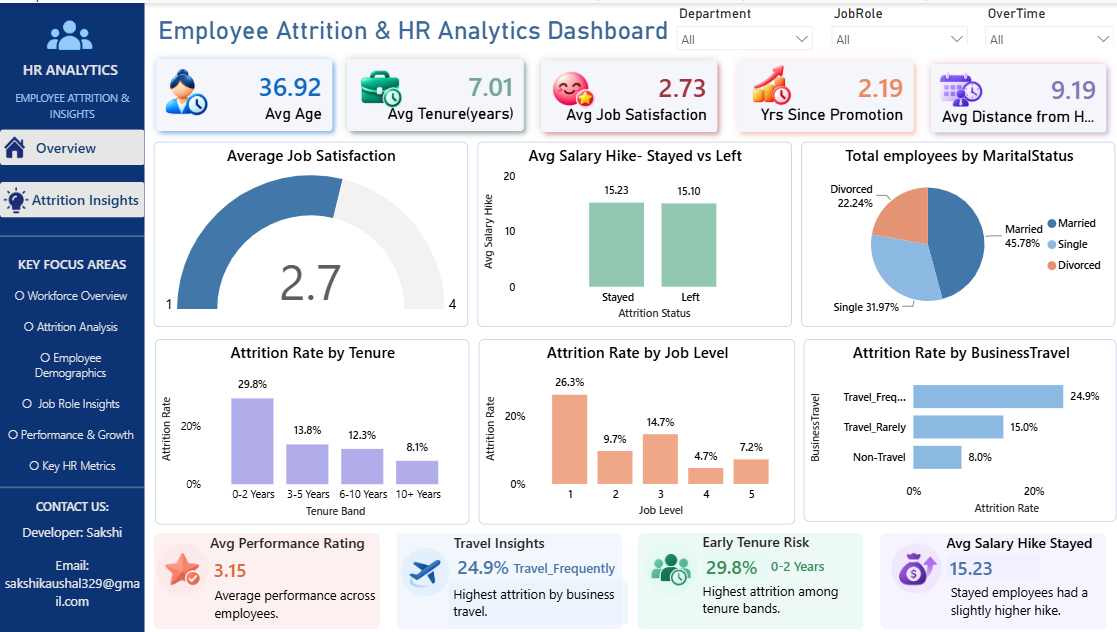

This screenshot's page, from the dashboard's own definition file:
{"tool":"powerbi","page":{"name":"Attrition Insight","canvas":[1280,720],"ordinal":1},"visuals":[{"type":"shape","box":[0,0,165,720.4],"z":0},{"type":"shape","box":[0,144.1,164.7,41.2],"z":1000},{"type":"shape","box":[0,204.5,164.7,41],"z":2000},{"type":"cardVisual","fields":{"Data":["Avg(hr hr_analytics.YearsAtCompany)"]},"box":[379.6,46.7,235,116],"z":3000},{"type":"cardVisual","fields":{"Data":["Avg(hr hr_analytics.JobSatisfaction)"]},"box":[600.5,48,235,116],"z":4000},{"type":"cardVisual","fields":{"Data":["Avg(hr hr_analytics.YearsSinceLastPromotion)"]},"box":[824.2,48,235,116],"z":5000},{"type":"cardVisual","fields":{"Data":["Avg(hr hr_analytics.DistanceFromHome)"]},"box":[1044.3,52.1,234.6,112.5],"z":6000},{"type":"cardVisual","fields":{"Data":["Avg(hr hr_analytics.Age)"]},"box":[160.5,46.7,235,116],"z":7000},{"type":"lineStackedColumnComboChart","title":"Attrition Rate by Tenure","fields":{"Category":["hr hr_analytics.Tenure Band Fixed"],"Y":["hr hr_analytics.Attrition Rate"]},"box":[177,382.8,358.1,211.3],"z":8000},{"type":"slicer","fields":{"Values":["hr hr_analytics.OverTime"]},"box":[1112.6,0,167.4,49.4],"z":9000},{"type":"slicer","fields":{"Values":["hr hr_analytics.JobRole"]},"box":[937.2,0,175.6,48],"z":10000},{"type":"slicer","fields":{"Values":["hr hr_analytics.Department"]},"box":[761.6,0,175.6,53.5],"z":11000},{"type":"gauge","title":"Average Job Satisfaction","fields":{"MaxValue":["hr hr_analytics.Maximum Value"],"MinValue":["hr hr_analytics.Minimum Value"],"Y":["Avg(hr hr_analytics.JobSatisfaction)"]},"box":[175.6,157.8,358.1,211.3],"z":12000},{"type":"lineStackedColumnComboChart","title":"Avg Salary Hike- Stayed vs Left","fields":{"Category":["hr hr_analytics.Attrition Status"],"Y":["Avg(hr hr_analytics.PercentSalaryHike)"]},"box":[544.8,157.8,358.1,211.3],"z":13000},{"type":"clusteredBarChart","fields":{"Category":["hr hr_analytics.BusinessTravel"],"Y":["hr hr_analytics.Attrition Rate"]},"box":[916.5,383.4,357.8,208.1],"z":14000},{"type":"pieChart","fields":{"Category":["hr hr_analytics.MaritalStatus"],"Y":["hr hr_analytics.Total employess"]},"box":[913.9,157.8,359.5,211.3],"z":15000},{"type":"columnChart","title":"Attrition Rate by Job Level","fields":{"Category":["hr hr_analytics.JobLevel"],"Y":["hr hr_analytics.Attrition Rate"]},"box":[545.9,383.4,360.6,211],"z":16000},{"type":"shape","box":[175.6,603.8,258,109.8],"z":17000},{"type":"shape","box":[451.5,603.8,258,109.8],"z":18000},{"type":"shape","box":[727.3,603.8,258,109.8],"z":19000},{"type":"shape","box":[1003.1,603.8,258,109.8],"z":20000},{"type":"textbox","box":[175.6,8.2,595.5,43.9],"z":21000},{"type":"cardVisual","fields":{"Data":["hr hr_analytics.Travel attrition"]},"box":[517.3,631.2,74.1,20.6],"z":22000},{"type":"textbox","box":[517.3,603.8,118,30.2],"z":23000},{"type":"cardVisual","fields":{"Data":["hr hr_analytics.Highest Travel Category"]},"box":[581.8,627.1,142.7,30.2],"z":24000},{"type":"textbox","box":[511.8,658.7,204.5,50.8],"z":25000},{"type":"cardVisual","fields":{"Data":["hr hr_analytics.Highest Tenure Attrition"]},"box":[801.4,625.7,75.5,32.9],"z":26000},{"type":"cardVisual","fields":{"Data":["hr hr_analytics.Highest Tenure Band"]},"box":[875.2,625.7,124.9,30.2],"z":27000},{"type":"textbox","box":[801.4,602.4,150.9,26.1],"z":28000},{"type":"textbox","box":[801.4,660,183.9,49.4],"z":29000},{"type":"textbox","box":[1078.6,603.8,182.5,28.8],"z":30000},{"type":"cardVisual","fields":{"Data":["hr hr_analytics.Avg Salary Hike Stayed"]},"box":[1078.6,628.5,107,28.8],"z":31000},{"type":"textbox","box":[1078.6,657.3,182.5,63.1],"z":32000},{"type":"cardVisual","fields":{"Data":["Avg(hr hr_analytics.PerformanceRating)"]},"box":[240.1,634,64.5,22],"z":33000},{"type":"textbox","box":[240.1,603.8,193.5,30.2],"z":34000},{"type":"textbox","box":[240.1,660,225,53.5],"z":35000},{"type":"image","box":[451.5,613.4,60.4,65.9],"z":36000},{"type":"image","box":[175.6,610.6,64.5,64.5],"z":37000},{"type":"image","box":[728.6,605.1,67.2,83.7],"z":38000},{"type":"image","box":[1011.3,606.5,64.5,79.6],"z":39000},{"type":"image","box":[408.9,72.7,50.8,50.8],"z":40000},{"type":"image","box":[181.1,70,60.4,63.1],"z":41000},{"type":"image","box":[628.5,67.2,50.8,61.7],"z":42000},{"type":"image","box":[852.1,67.2,50.8,53.5],"z":43000},{"type":"image","box":[46.7,4.1,64.5,64.5],"z":44000},{"type":"textbox","box":[0,60.4,160.5,38.4],"z":45000},{"type":"textbox","box":[0,94.7,164.7,49.4],"z":46000},{"type":"shape","box":[0,118,164.7,295],"z":47000},{"type":"textbox","box":[0,319.7,164.7,249.7],"z":48000},{"type":"textbox","box":[0,282.7,164.7,37],"z":49000},{"type":"actionButton","box":[28.8,149.6,93.3,28.8],"z":50000},{"type":"actionButton","box":[30.2,208.6,134.5,31.6],"z":51000},{"type":"image","box":[4.1,146.8,25,35],"z":52000},{"type":"image","box":[2.7,204.5,31,42],"z":53000},{"type":"textbox","box":[0,559.9,164.7,31.6],"z":54000},{"type":"textbox","box":[0,588.7,164.7,131.7],"z":55000},{"type":"shape","box":[0,404.8,164.7,295],"z":56000},{"type":"image","box":[1059.4,67.2,72.7,63.1],"z":57000}]}

Visuals, with their boxes in screenshot pixels (x1, y1, x2, y2), scaled from the page's 1280x720 canvas onto the 1117x632 screenshot:
shape: (0, 0, 144, 631)
shape: (0, 126, 144, 163)
shape: (0, 180, 144, 215)
cardVisual - Avg(hr hr_analytics.YearsAtCompany): (331, 41, 536, 143)
cardVisual - Avg(hr hr_analytics.JobSatisfaction): (524, 42, 729, 144)
cardVisual - Avg(hr hr_analytics.YearsSinceLastPromotion): (719, 42, 924, 144)
cardVisual - Avg(hr hr_analytics.DistanceFromHome): (911, 46, 1116, 144)
cardVisual - Avg(hr hr_analytics.Age): (140, 41, 345, 143)
"Attrition Rate by Tenure" lineStackedColumnComboChart: (154, 336, 467, 521)
slicer - hr hr_analytics.OverTime: (971, 0, 1116, 43)
slicer - hr hr_analytics.JobRole: (818, 0, 971, 42)
slicer - hr hr_analytics.Department: (665, 0, 818, 47)
"Average Job Satisfaction" gauge: (153, 139, 466, 324)
"Avg Salary Hike- Stayed vs Left" lineStackedColumnComboChart: (475, 139, 788, 324)
clusteredBarChart - hr hr_analytics.BusinessTravel x hr hr_analytics.Attrition Rate: (800, 337, 1112, 519)
pieChart - hr hr_analytics.MaritalStatus x hr hr_analytics.Total employess: (798, 139, 1111, 324)
"Attrition Rate by Job Level" columnChart: (476, 337, 791, 522)
shape: (153, 530, 378, 626)
shape: (394, 530, 619, 626)
shape: (635, 530, 860, 626)
shape: (875, 530, 1101, 626)
textbox: (153, 7, 673, 46)
cardVisual - hr hr_analytics.Travel attrition: (451, 554, 516, 572)
textbox: (451, 530, 554, 557)
cardVisual - hr hr_analytics.Highest Travel Category: (508, 550, 632, 577)
textbox: (447, 578, 625, 623)
cardVisual - hr hr_analytics.Highest Tenure Attrition: (699, 549, 765, 578)
cardVisual - hr hr_analytics.Highest Tenure Band: (764, 549, 873, 576)
textbox: (699, 529, 831, 552)
textbox: (699, 579, 860, 623)
textbox: (941, 530, 1101, 555)
cardVisual - hr hr_analytics.Avg Salary Hike Stayed: (941, 552, 1035, 577)
textbox: (941, 577, 1101, 631)
cardVisual - Avg(hr hr_analytics.PerformanceRating): (210, 557, 266, 576)
textbox: (210, 530, 378, 557)
textbox: (210, 579, 406, 626)
image: (394, 538, 447, 596)
image: (153, 536, 210, 593)
image: (636, 531, 694, 605)
image: (883, 532, 939, 602)
image: (357, 64, 401, 108)
image: (158, 61, 211, 117)
image: (548, 59, 593, 113)
image: (744, 59, 788, 106)
image: (41, 4, 97, 60)
textbox: (0, 53, 140, 87)
textbox: (0, 83, 144, 126)
shape: (0, 104, 144, 363)
textbox: (0, 281, 144, 500)
textbox: (0, 248, 144, 281)
actionButton: (25, 131, 107, 157)
actionButton: (26, 183, 144, 211)
image: (4, 129, 25, 160)
image: (2, 180, 29, 216)
textbox: (0, 491, 144, 519)
textbox: (0, 517, 144, 631)
shape: (0, 355, 144, 614)
image: (924, 59, 988, 114)
